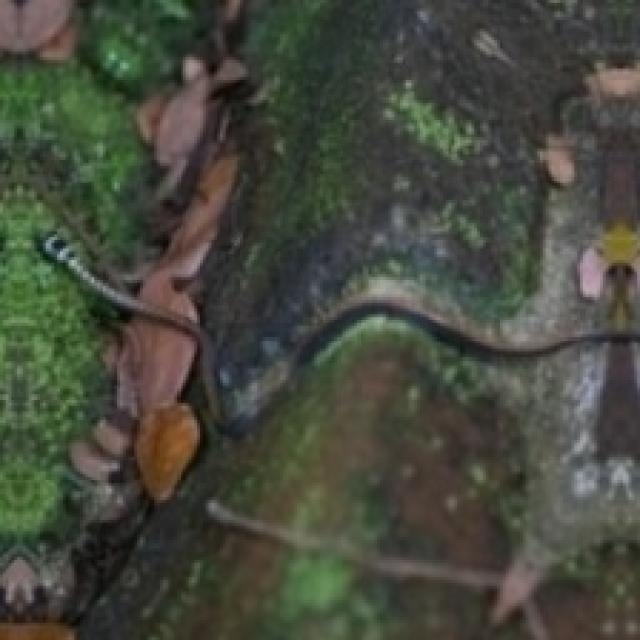paradise tree snake: (0, 0, 243, 637)
